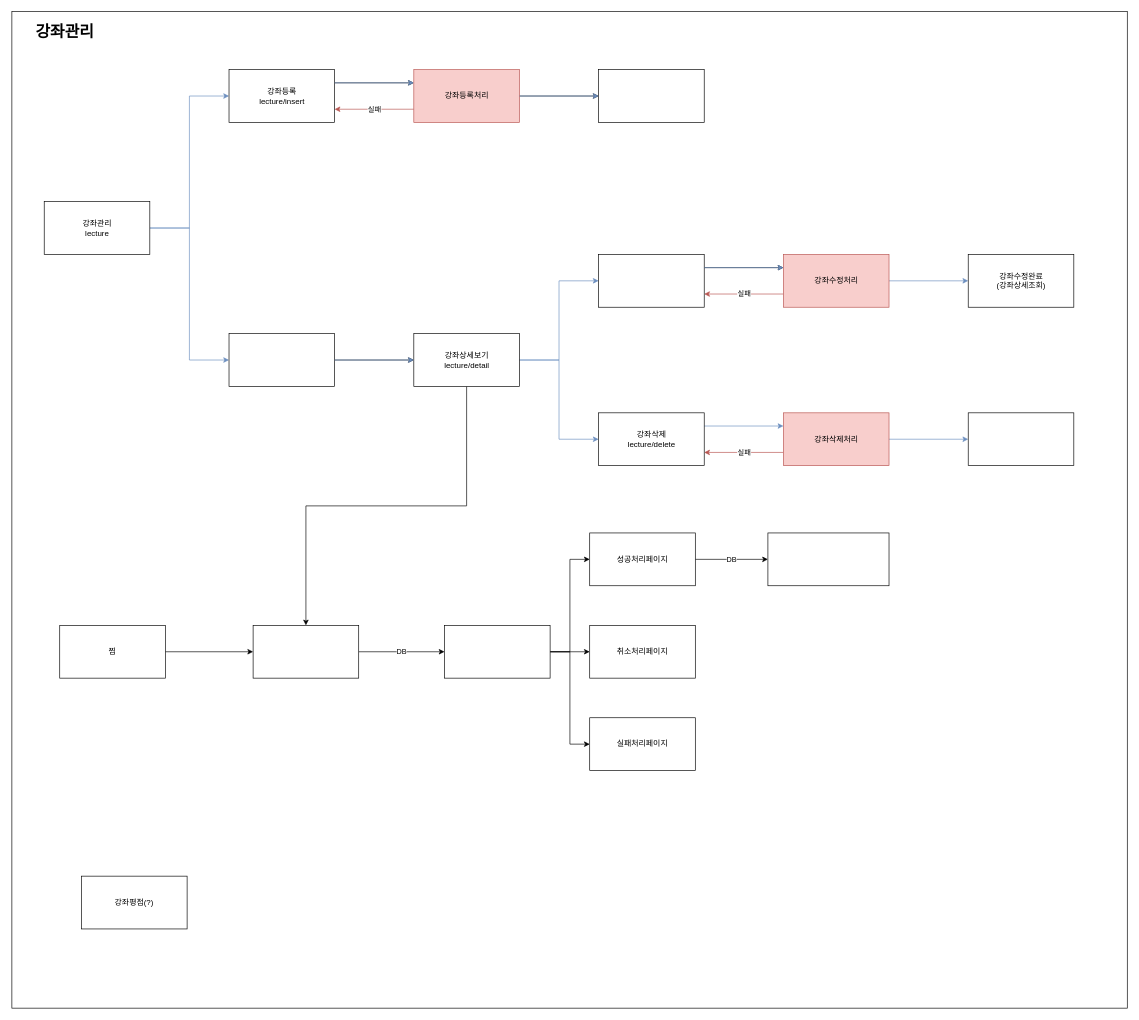
The diagram is 1139 pixels wide and 1020 high, and some of its shapes have lost their labels. The shapes that lost their labels are listed below. From the top down, each one's centre as x and y in pixels, then its label:
At (651,95): "강좌등록완료 (강좌상세조회)".
At (651,280): "강좌수정 lecture/edit".
At (281,359): "강좌목록/검색 lecture/list".
At (1021,439): "강좌삭제완료 (강좌리스트로 리다이렉트)".
At (828,559): "승인요청 (결제완료 페이지로 리다이렉트)".
At (305,651): "결제 확인 페이지 /pay/confirm[GET]".
At (497,651): "실제 결제 페이지 (카카오페이)".
